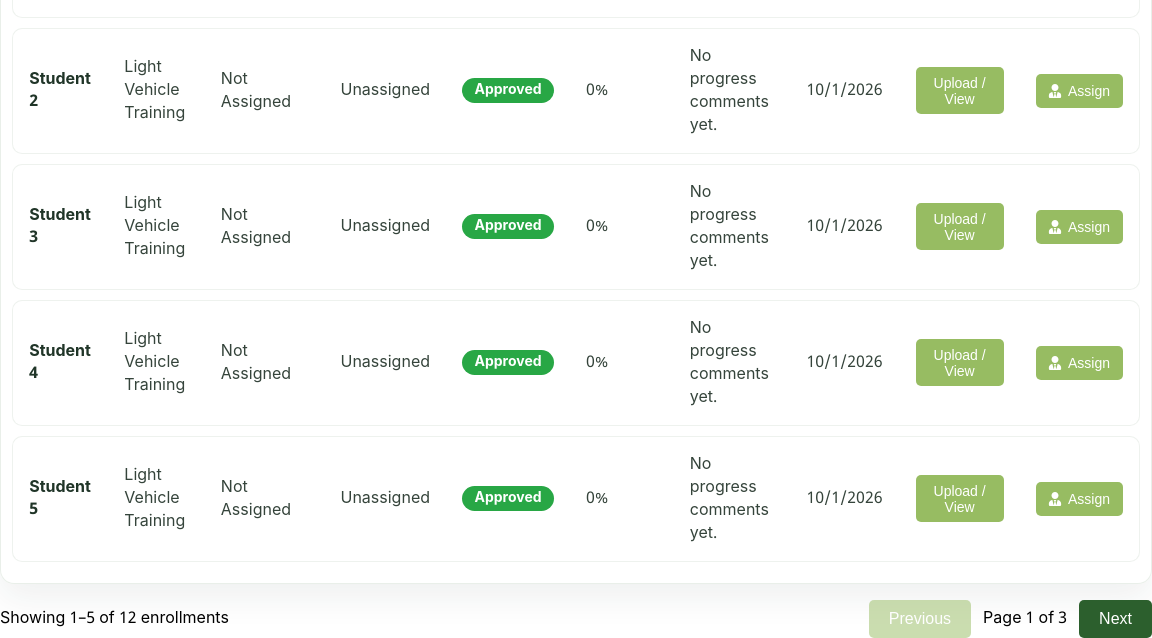
it: status filtering resets to page one and paginates only matching enrollments
This screenshot has width=1152, height=638.
(page scrolled)
Step 1. Click the button "Next" → x=1116, y=619, box [1079,600,1151,637]
(page scrolled)
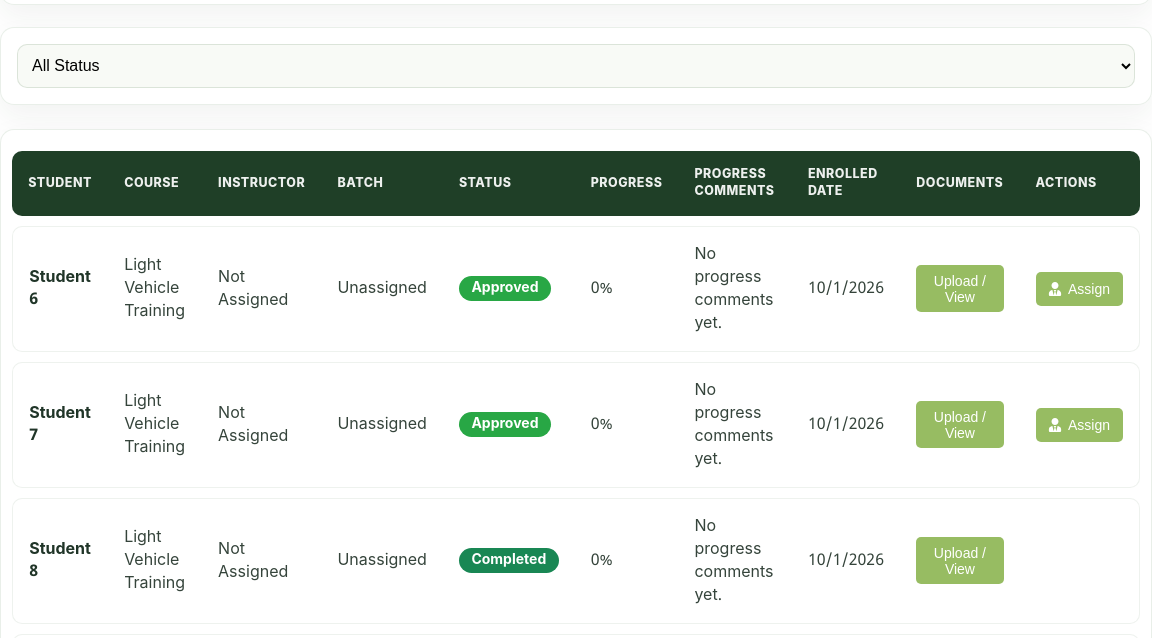
Step 2. Select "Approved" in the dropdown → x=576, y=66, box [17,44,1135,88]
(page scrolled)
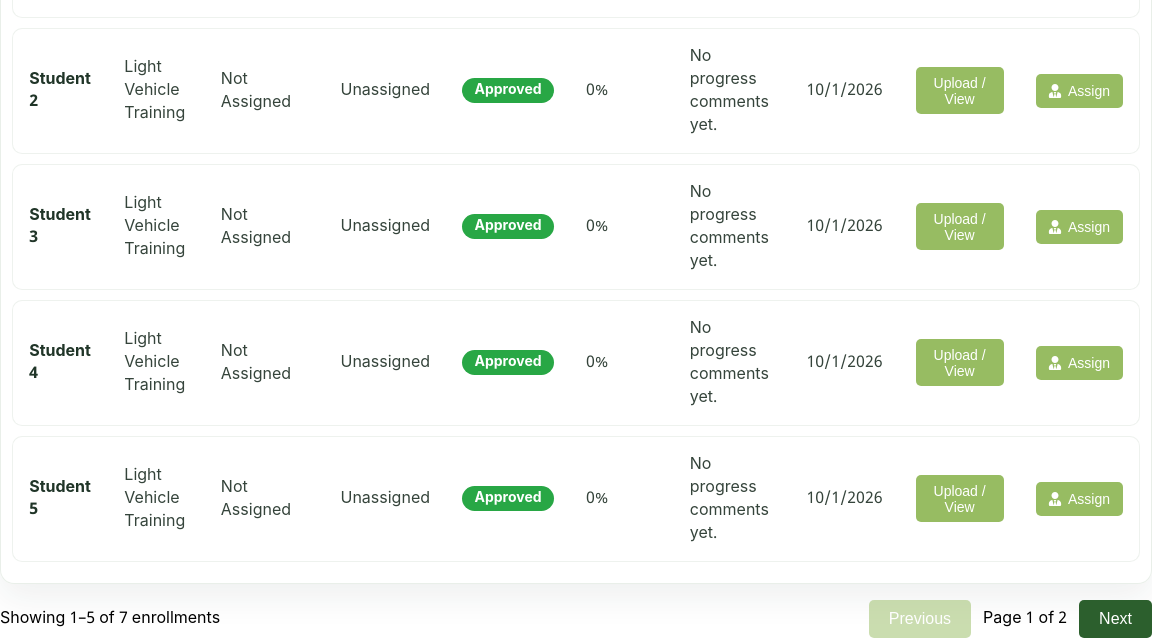
Step 3. Click the button "Next" → x=1116, y=619, box [1079,600,1151,637]
(page scrolled)
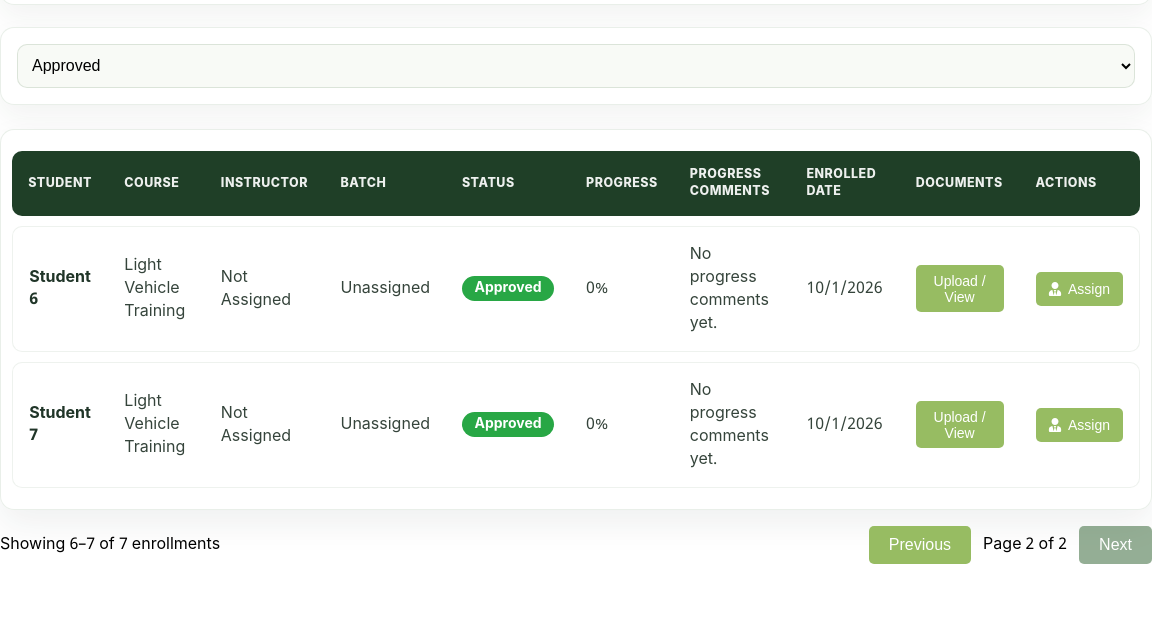
Result: the button "Next" is disabled at [1079,526,1151,564]
Step 4. Select "Pending" in the dropdown → x=576, y=66, box [17,44,1135,88]
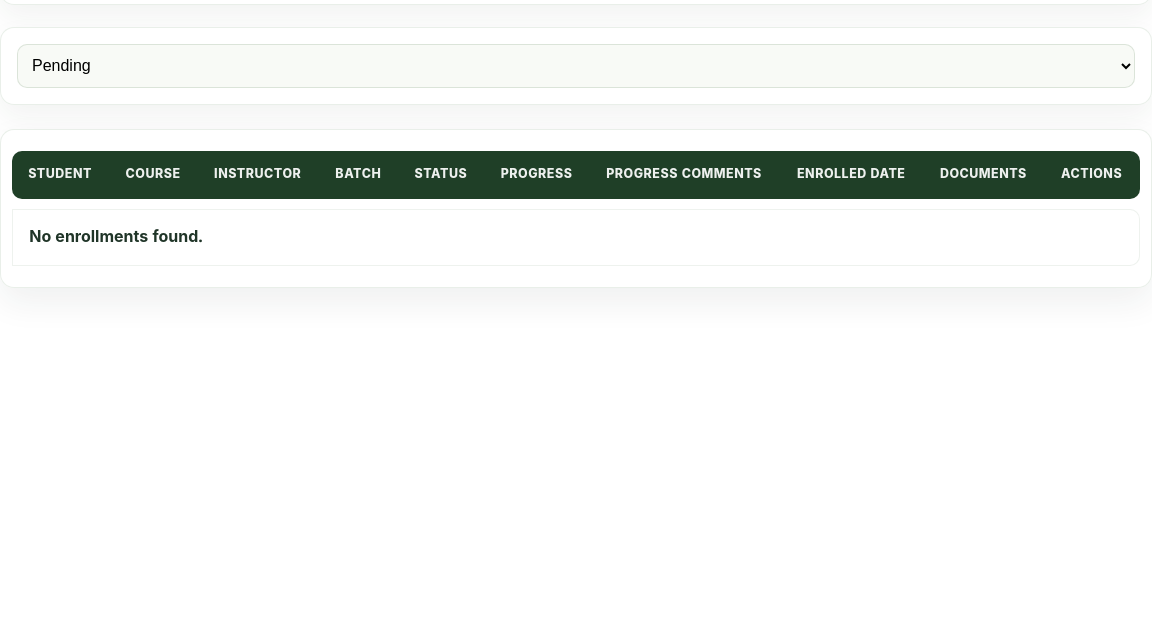
Result: the text "No enrollments found." is shown at [12,208,1140,266]
